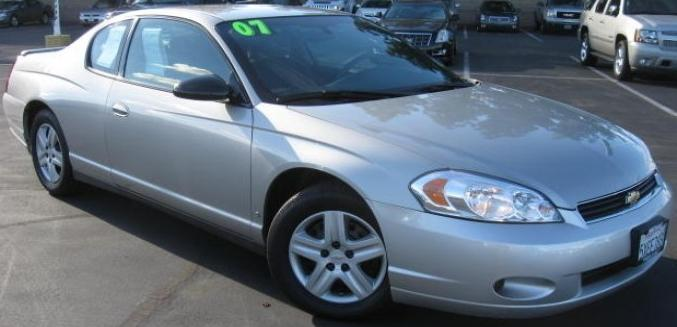front_view: (397, 137, 671, 308)
headlight: (394, 155, 577, 232)
side_glass: (87, 16, 260, 116)
